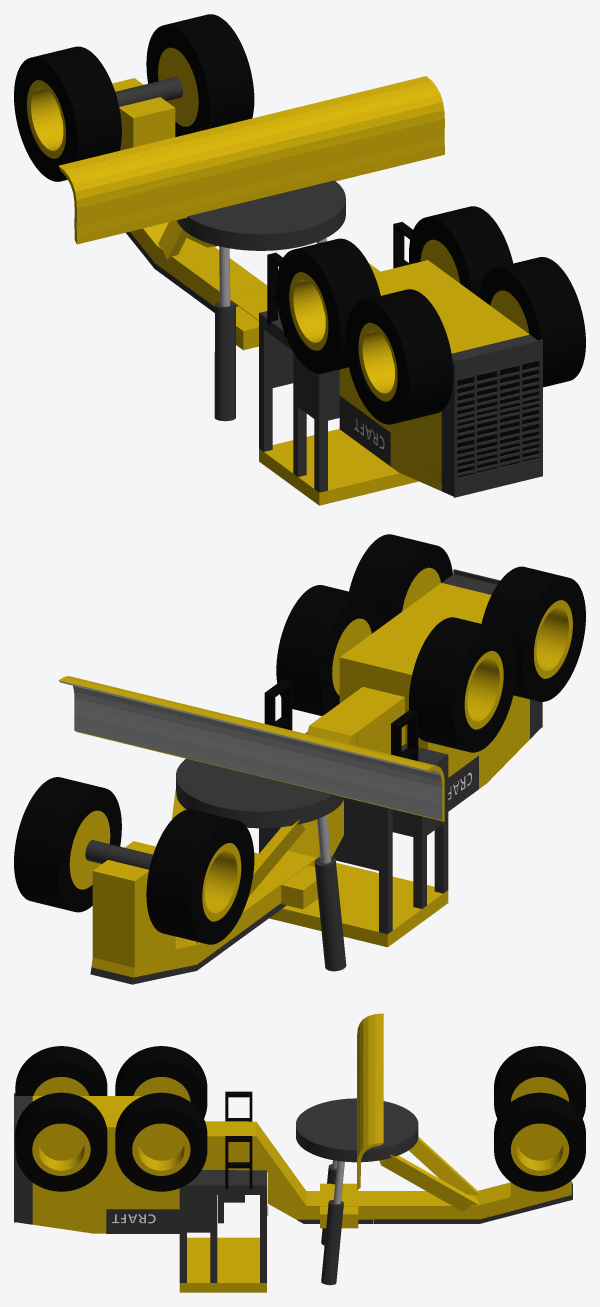
The model's file is graderprototype.obj.
3 views of the same model, one above another, from view 1: azimuth 30°, elevation 25°; view 2: azimuth 150°, elevation 25°; view 3: azimuth 270°, elevation 25° (orthographic). The views are drawn at different scales.
Parts seen in each view (by area): view 1: Object.14, Object.1, Object.11, Object.7, Object.2, Object.30, Object.10, Object.29, Object.3, Object.13, Object.5, Object.4 (+11 smaller); view 2: Object.14, Object.29, Object.11, Object.2, Object.7, Object.10, Object.1, Object.4, Object.13, Object.16, Object.3, Object.27 (+11 smaller); view 3: Object.29, Object.3, Object.4, Object.10, Object.7, Object.13, Object.11, Object.2, Object.16, Object.28, Object.1, Object.14 (+9 smaller).
Boxes of the visible parts, bbox=[...] form: Object.14: bbox=[58, 76, 444, 244]; Object.1: bbox=[345, 289, 453, 424]; Object.11: bbox=[14, 46, 121, 181]; Object.7: bbox=[339, 260, 529, 490]; Object.2: bbox=[276, 238, 380, 373]; Object.30: bbox=[453, 339, 542, 497]; Object.10: bbox=[146, 14, 254, 136]; Object.29: bbox=[112, 78, 267, 312]; Object.3: bbox=[478, 257, 585, 387]; Object.13: bbox=[177, 180, 345, 250]; Object.5: bbox=[441, 334, 538, 496]; Object.4: bbox=[409, 206, 513, 296]; Object.14: bbox=[58, 676, 444, 821]; Object.29: bbox=[90, 789, 305, 984]; Object.11: bbox=[146, 809, 254, 944]; Object.2: bbox=[409, 617, 516, 752]; Object.7: bbox=[339, 583, 529, 788]; Object.10: bbox=[14, 777, 121, 912]; Object.1: bbox=[481, 566, 585, 701]; Object.4: bbox=[276, 585, 383, 715]; Object.13: bbox=[176, 758, 344, 828]; Object.16: bbox=[269, 862, 448, 947]; Object.3: bbox=[349, 534, 452, 624]; Object.27: bbox=[307, 687, 404, 754]; Object.29: bbox=[373, 1137, 572, 1223]; Object.3: bbox=[15, 1092, 107, 1191]; Object.4: bbox=[115, 1092, 207, 1191]; Object.10: bbox=[494, 1092, 585, 1191]; Object.7: bbox=[32, 1096, 179, 1233]; Object.13: bbox=[296, 1098, 418, 1162]; Object.11: bbox=[494, 1046, 585, 1118]; Object.2: bbox=[115, 1046, 207, 1118]; Object.16: bbox=[179, 1237, 266, 1292]; Object.28: bbox=[267, 1158, 372, 1228]; Object.1: bbox=[15, 1046, 107, 1095]; Object.14: bbox=[357, 1013, 383, 1189].
Bounding box in the file's own units: 6.35 × 4.4 × 11.85.
